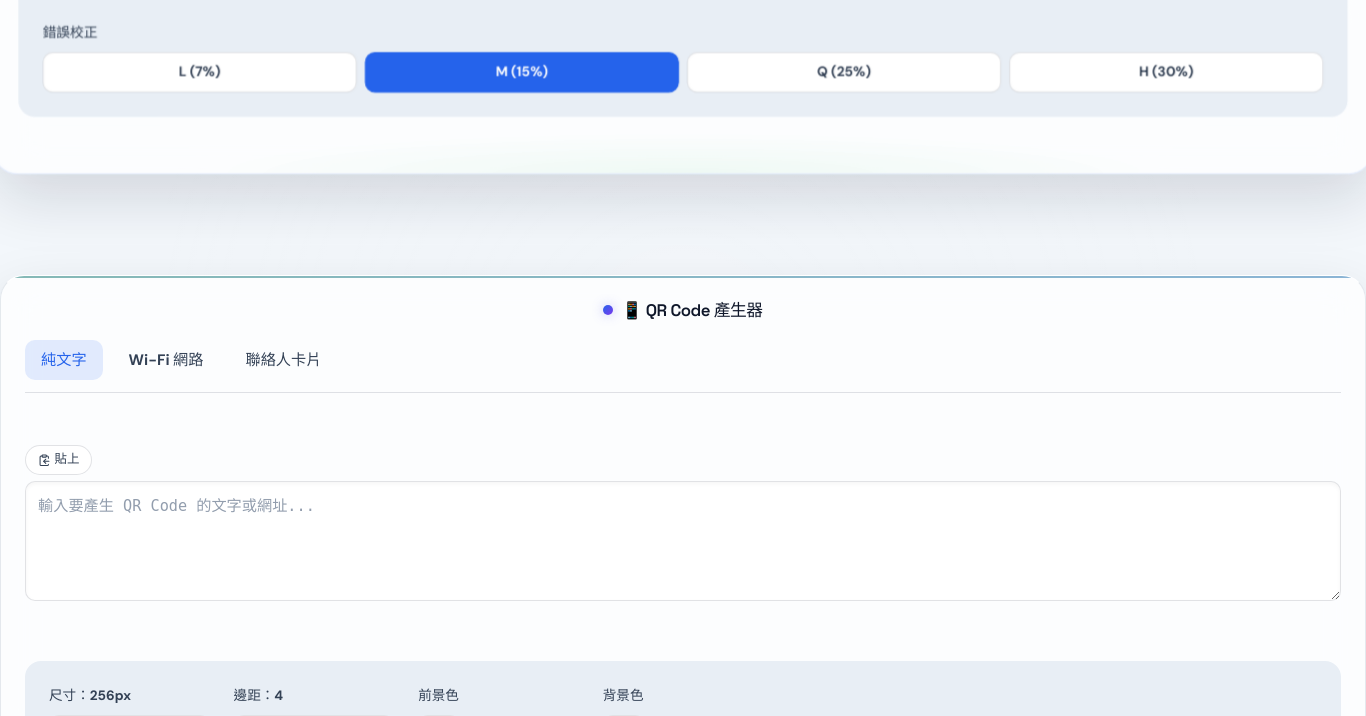
Test: QrCodeGenerator.vue › 模式切換 (模式: Text/WiFi/Contact) › 切換到 Contact 模式應顯示聯絡人輸入欄位
(page scrolled)
Click the button with class "tab-btn" showing "聯絡人卡片". click: (283, 360)
box: [230,340,337,380]
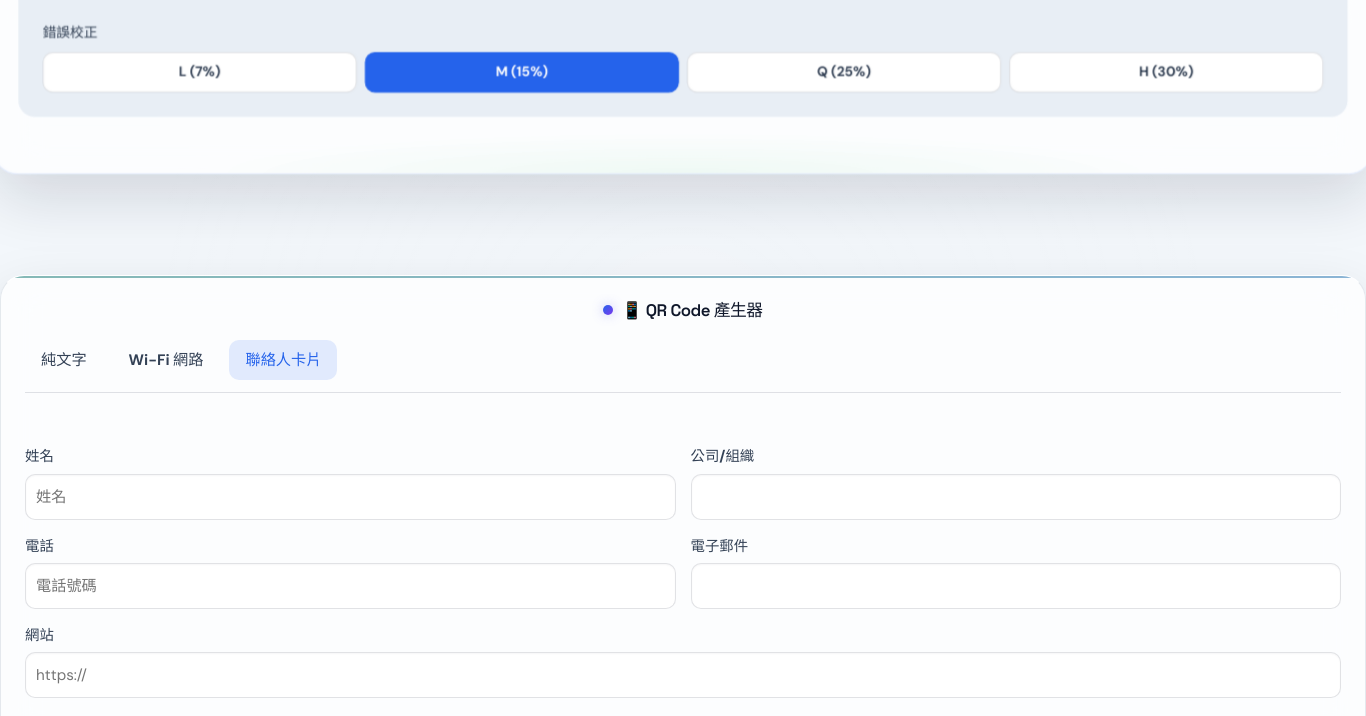
Check: the field with id "contact-fn" is shown, box [25,474,676,520]
Check: the field with id "contact-tel" is shown, box [25,563,676,609]
Check: the field with id "contact-email" is shown, box [690,563,1341,609]
